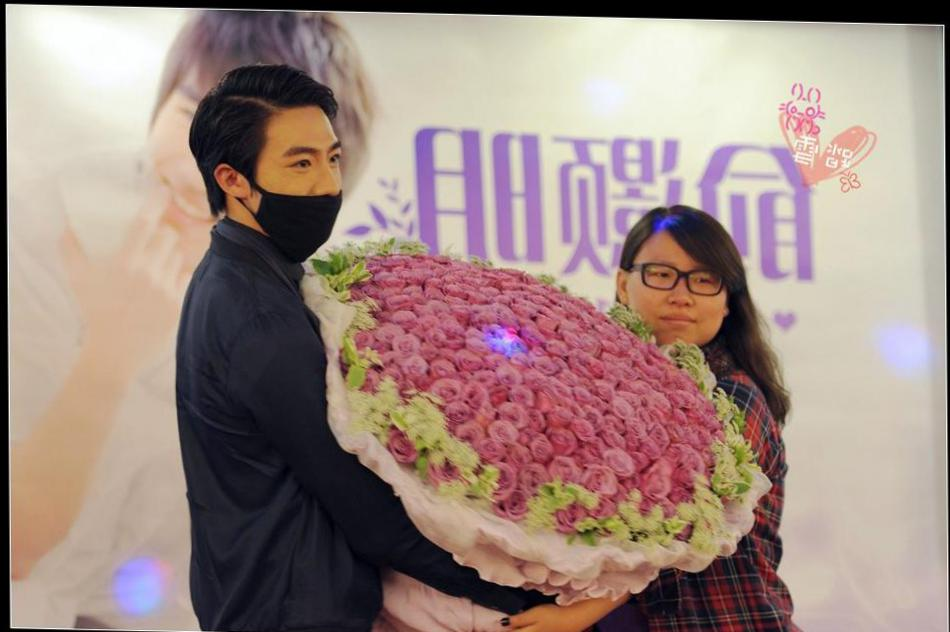NONE: (629, 251, 724, 343)
WRONG: (234, 133, 346, 257)
